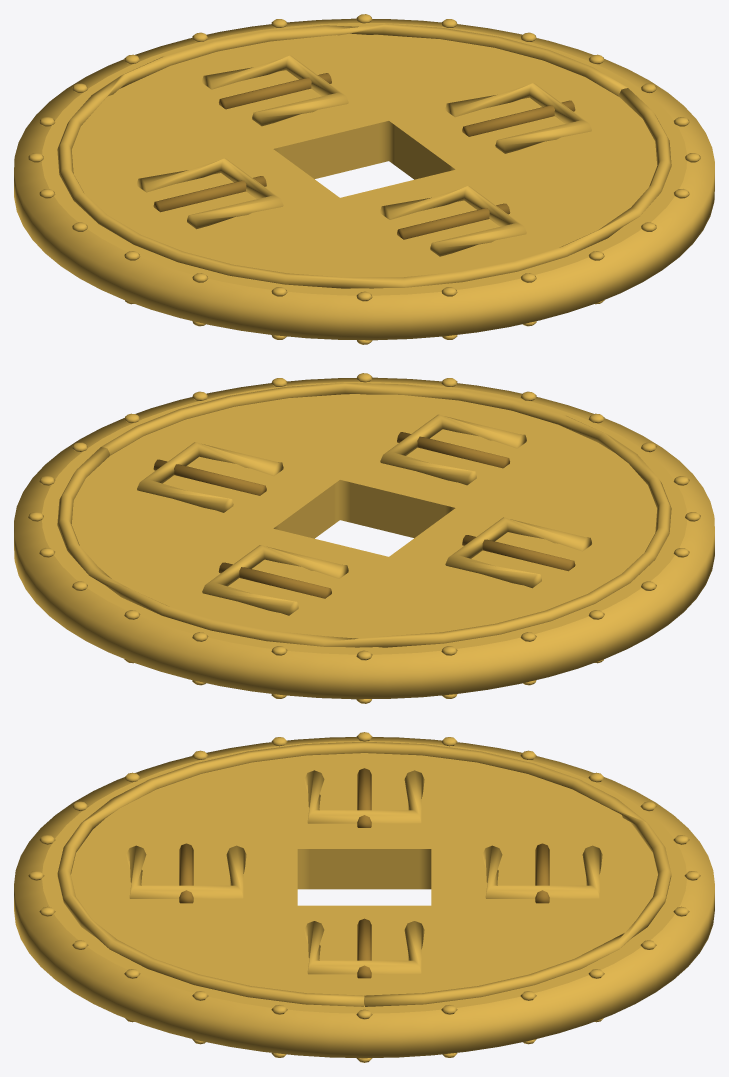
Rendered from gold_coin.glb.
3 views of the same model, one above another, from view 1: azimuth 30°, elevation 25°; view 2: azimuth 150°, elevation 25°; view 3: azimuth 270°, elevation 25° (orthographic).
Parts seen in each view (by area): view 1: MintedGoldCoin; view 2: MintedGoldCoin; view 3: MintedGoldCoin.
Part boxes in pixels (x1=…): MintedGoldCoin: x1=14, y1=14, x2=714, y2=344; MintedGoldCoin: x1=14, y1=373, x2=714, y2=703; MintedGoldCoin: x1=14, y1=732, x2=714, y2=1062.
Bounding box in the file's own units: 0.126 × 0.0122 × 0.126.
